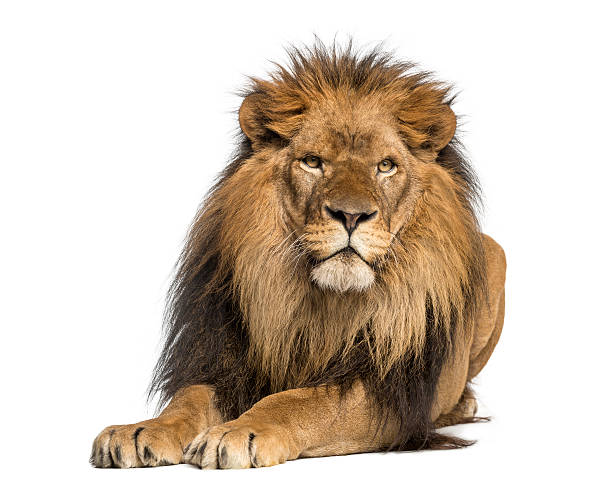lion: (111, 27, 506, 455)
